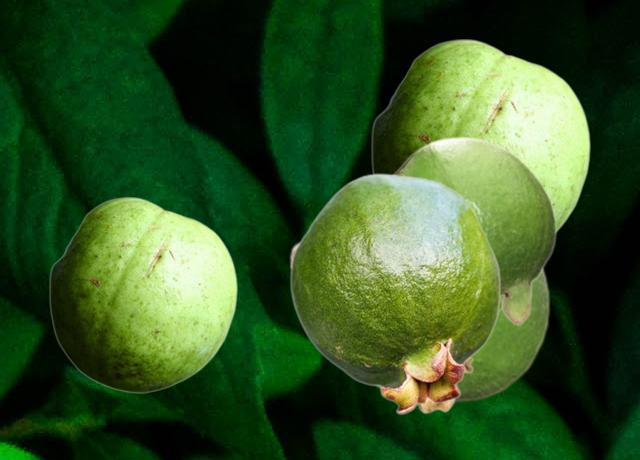guava: (289, 173, 500, 414), (288, 238, 551, 405), (371, 39, 589, 232), (49, 197, 236, 392), (393, 135, 556, 326), (417, 311, 500, 413)
